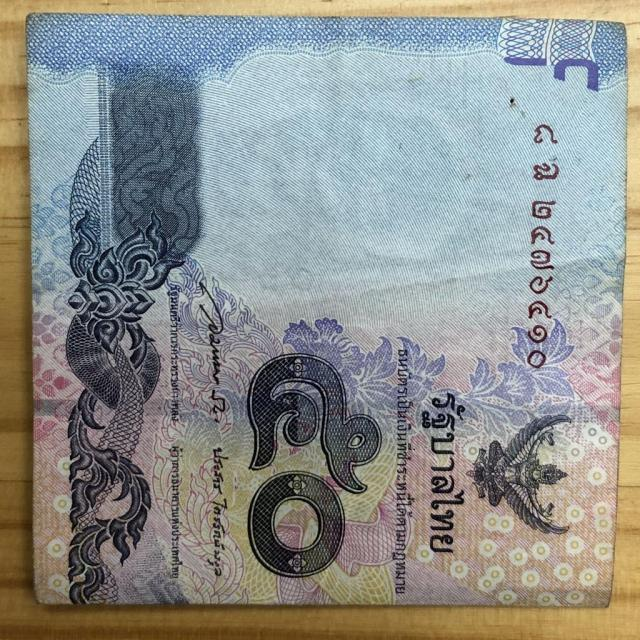THAI50: (28, 14, 628, 608)
